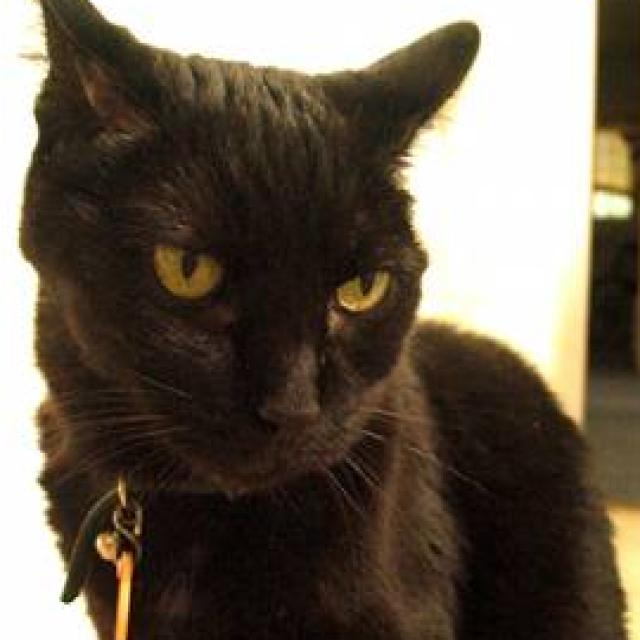Bombay: (12, 0, 635, 640)
